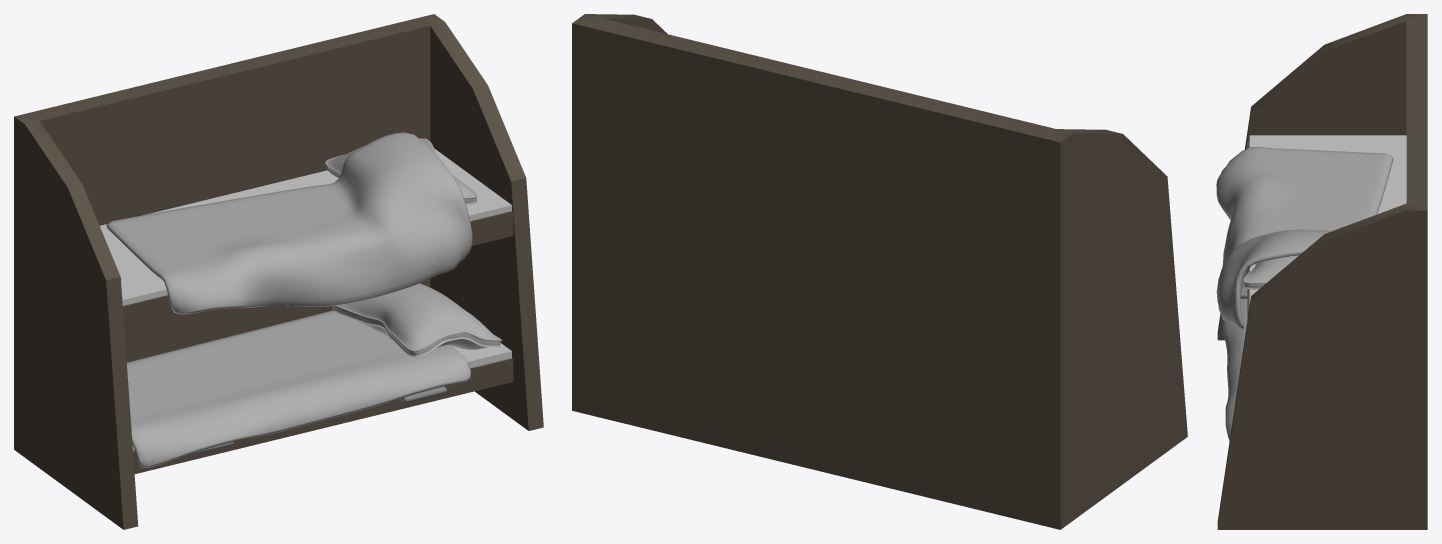
File: bed_02_ver2.fbx
The picture shows the model from 3 angles, left to right: view 1: azimuth 30°, elevation 25°; view 2: azimuth 150°, elevation 25°; view 3: azimuth 270°, elevation 25°; orthographic projection. The views are drawn at different scales.
Parts seen in each view (by area): view 1: pCube9, pPlane3, pPlane4, pCube19, pCube20, pCube17, pCube16; view 2: pCube9; view 3: pCube9, pPlane3, pCube19, pPlane4, pCube16.
Boxes of the visible parts, bbox=[...] form: pCube9: bbox=[14, 14, 543, 529]; pPlane3: bbox=[106, 132, 472, 314]; pPlane4: bbox=[127, 310, 470, 467]; pCube19: bbox=[100, 148, 513, 330]; pCube20: bbox=[332, 283, 502, 357]; pCube17: bbox=[132, 343, 513, 473]; pCube16: bbox=[325, 138, 477, 204]; pCube9: bbox=[572, 14, 1187, 529]; pCube9: bbox=[1217, 14, 1427, 529]; pPlane3: bbox=[1216, 147, 1393, 328]; pCube19: bbox=[1240, 135, 1406, 320]; pPlane4: bbox=[1222, 282, 1247, 440]; pCube16: bbox=[1243, 255, 1298, 289].
Bounding box in the file's own units: 3.44 × 2.61 × 1.56.
